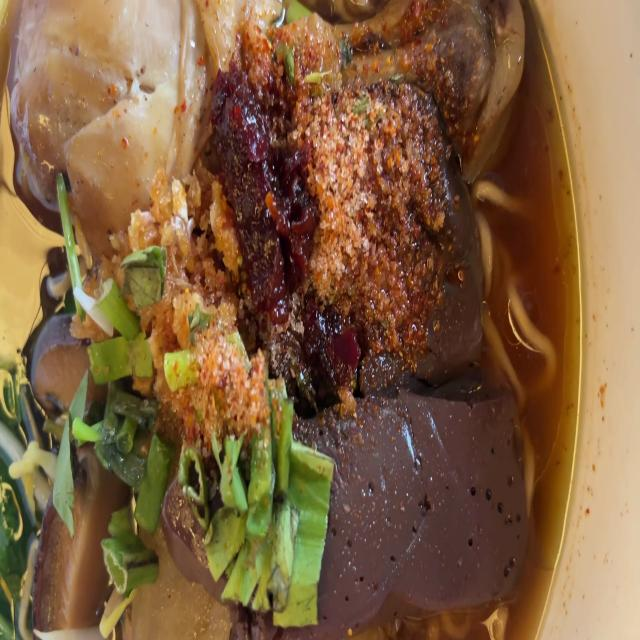noodle: (310, 407, 519, 612), (421, 143, 481, 369)
